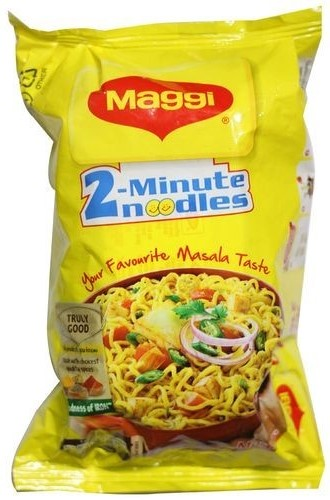maggi: (6, 11, 325, 493)
